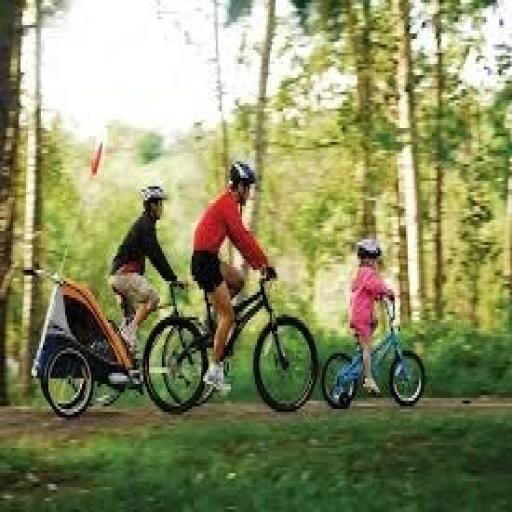cycling: (188, 156, 279, 395), (106, 181, 186, 359), (343, 234, 400, 398)
